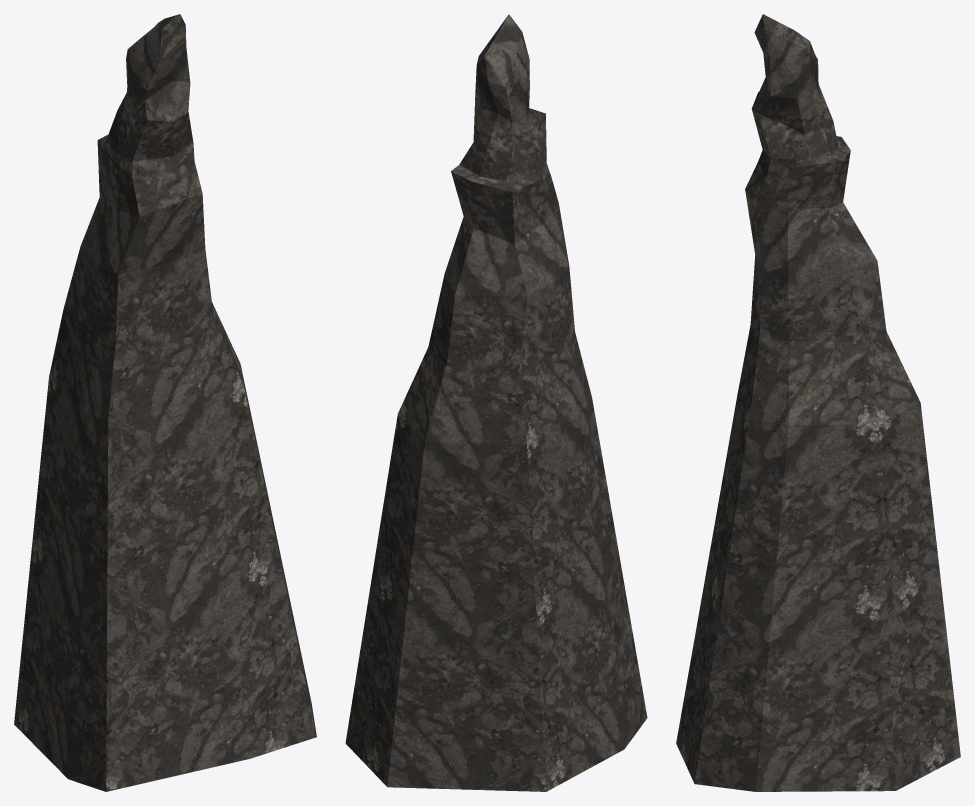
File: rock01.glb
3 renders of one model, left to right at view 1: azimuth 30°, elevation 25°; view 2: azimuth 150°, elevation 25°; view 3: azimuth 270°, elevation 25°, orthographic. The views are drawn at different scales.
Visible parts, largest first — view 1: rock02-col; view 2: rock02-col; view 3: rock02-col.
Part boxes in pixels (x1,y1,x2,y2): rock02-col: [14, 14, 316, 791]; rock02-col: [345, 14, 647, 791]; rock02-col: [676, 14, 960, 791].
Size of the model in its own units: 141 by 407 by 144.
1 material, 1 textured.
